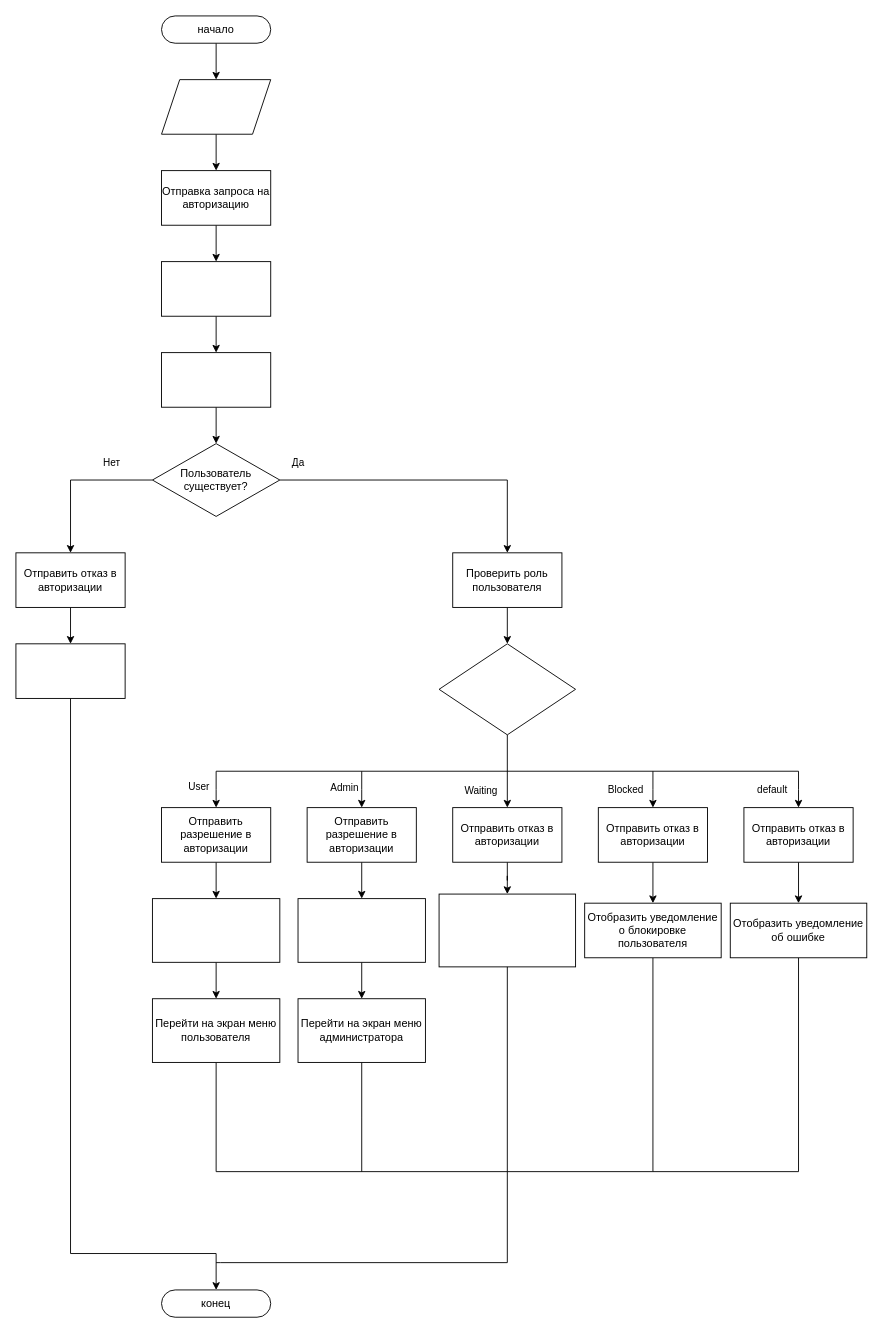
The diagram is 883 pixels wide and 1333 high, and some of its shapes have lost their labels. The shapes that lost their labels are listed below. From the top down, each one's centre as x and y in pixels, then its label:
[216,106]: Ввод имени пользователя и пароля
[216,288]: Подключение к БД
[216,379]: Отправить запрос на проверку существования пользователя
[70,670]: Отобразить уведомление об ошибке пользователю
[507,689]: Роль пользователя
[216,930]: Отобразить уведомление об успешной авторизации пользователю
[361,930]: Отобразить уведомление об успешной авторизации администратору
[507,930]: Отобразить уведомление об ожидании подтверждения со стороны администратора
